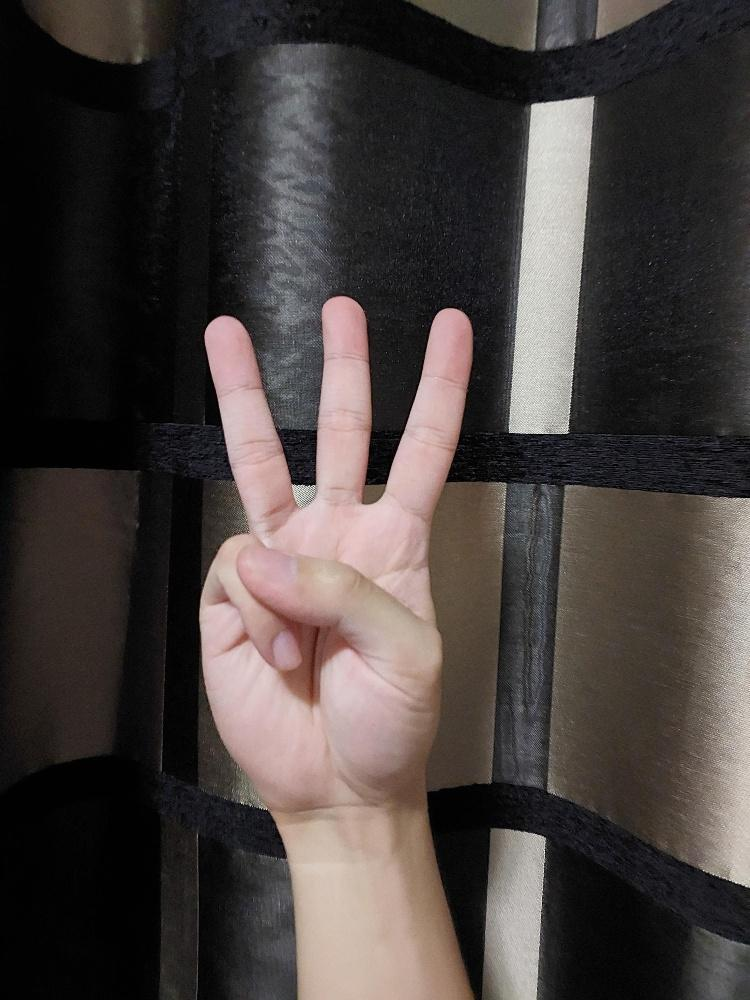w: (196, 294, 475, 808)
